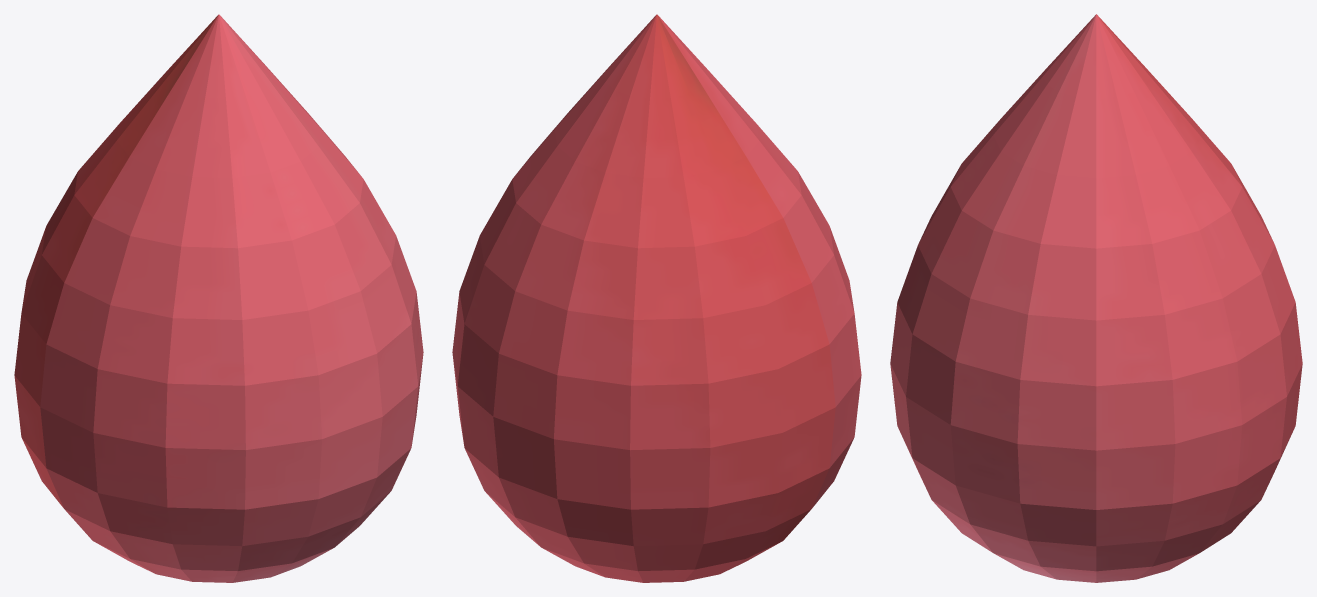
The model's file is Blood.gltf.
The picture shows the model from 3 angles, left to right: view 1: azimuth 30°, elevation 25°; view 2: azimuth 150°, elevation 25°; view 3: azimuth 270°, elevation 25°; orthographic projection.
Parts seen in each view (by area): view 1: Blood; view 2: Blood; view 3: Blood.
Boxes of the visible parts, x1=… form: Blood: x1=14, y1=14, x2=423, y2=582; Blood: x1=452, y1=14, x2=861, y2=582; Blood: x1=890, y1=14, x2=1302, y2=582.
Size of the model in its own units: 0.7158 by 1.05 by 0.7158.
Materials: 1 (1 with a texture image).
